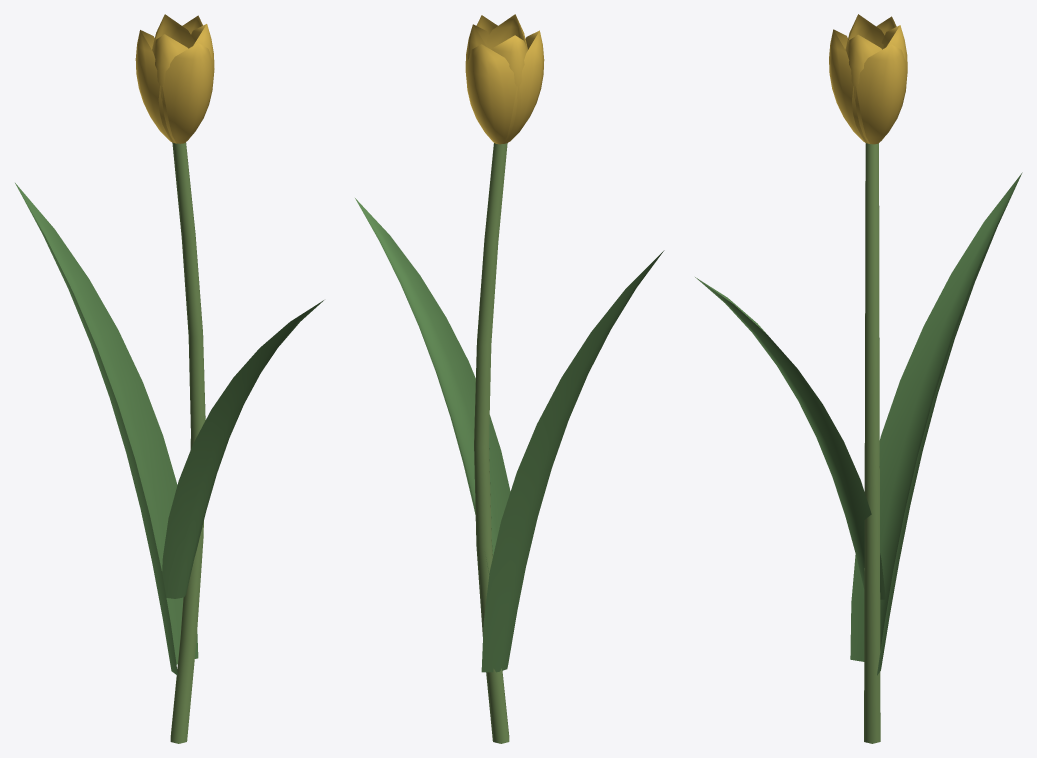
The model's file is tulip.glb.
The picture shows the model from 3 angles, left to right: view 1: azimuth 30°, elevation 25°; view 2: azimuth 210°, elevation 25°; view 3: azimuth 270°, elevation 25°; orthographic projection.
Parts seen in each view (by area): view 1: tulip; view 2: tulip; view 3: tulip.
Part boxes in pixels (x1,y1,x2,y2): tulip: (15,14,323,743); tulip: (355,14,664,743); tulip: (695,14,1022,743).
Bounding box in the file's own units: 0.0747 × 0.3475 × 0.1446.
